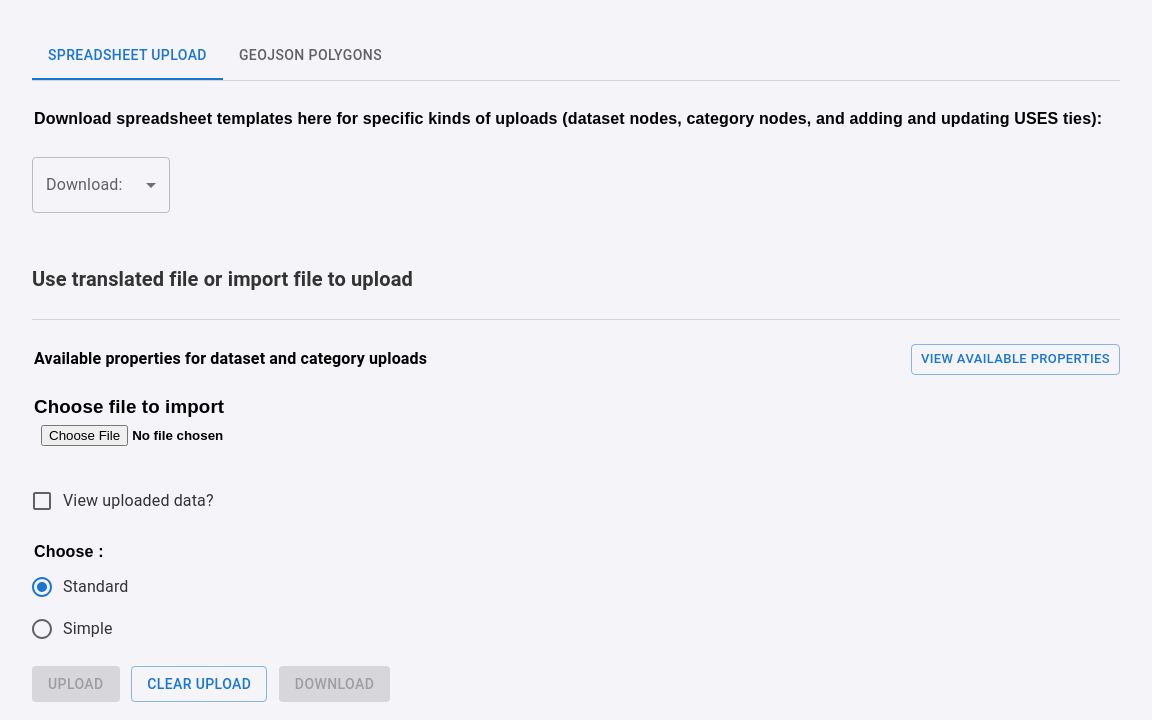
Scenario: Edit upload runtime › keeps GeoJSON upload in a separate admin tab
The width and height of the screenshot is (1152, 720).
Expected: the tab "Spreadsheet upload" is shown, [32,32,223,80]
Click the tab "GeoJSON polygons".
click(310, 56)  # box [223,32,398,80]
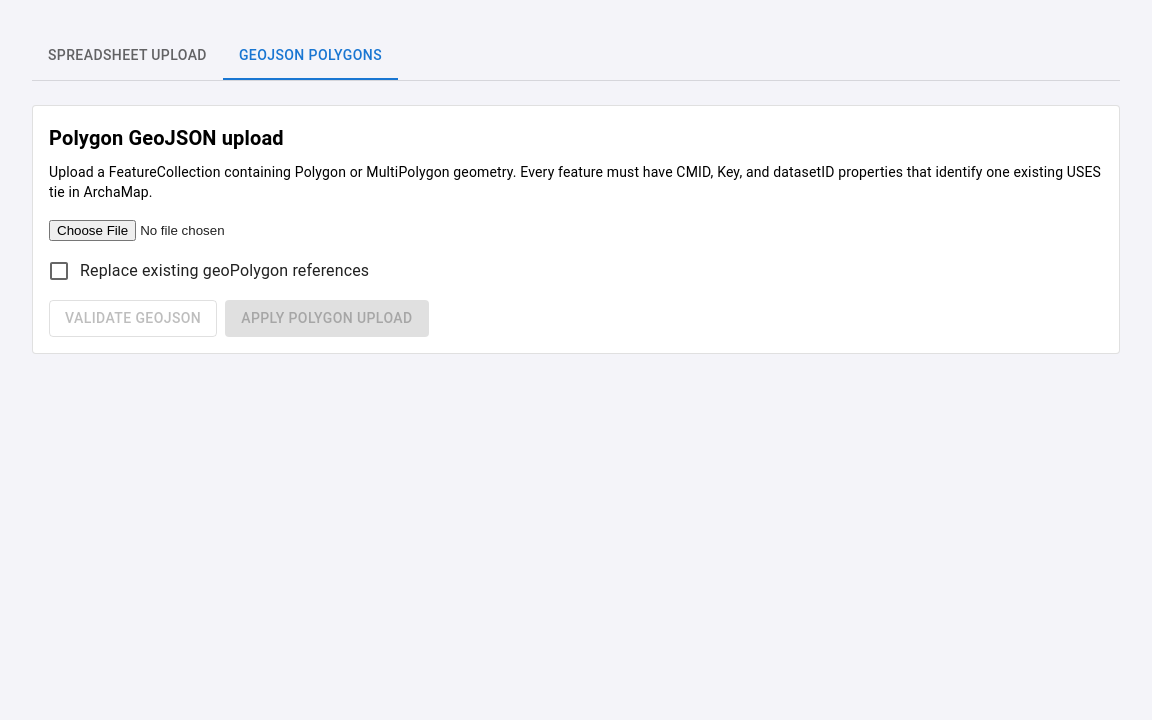
Expected: the element with test id "polygon-geojson-upload" is shown, [32,105,1120,354]
Expected: the text "Choose file to import" is gone
